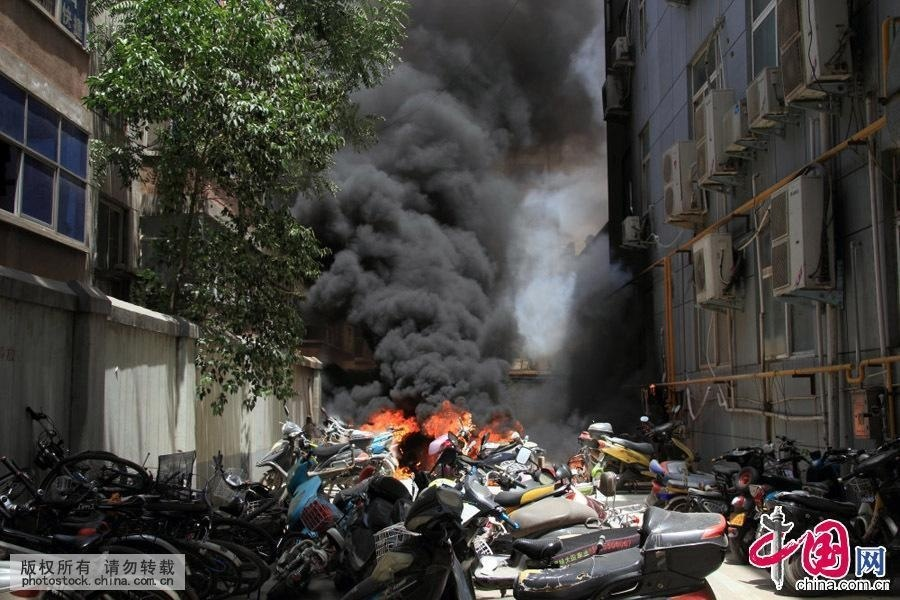fire: (359, 398, 515, 450)
